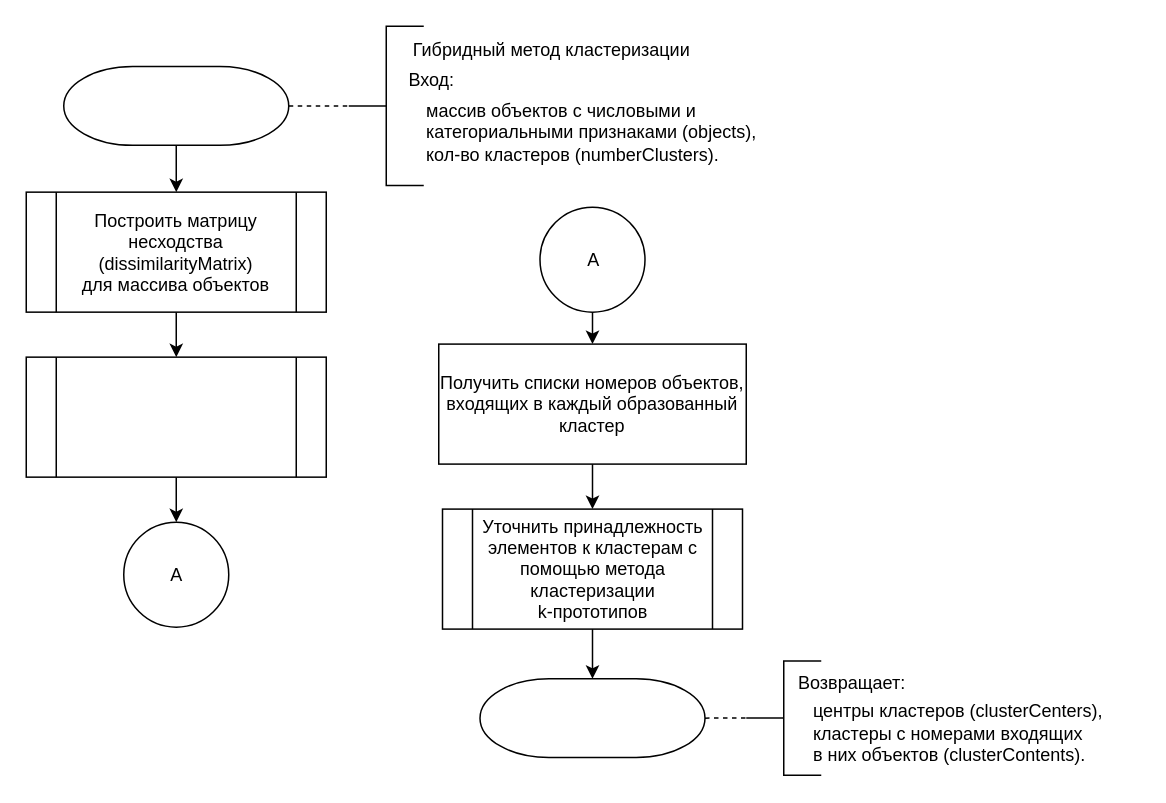
This 1166x803 diagram has some shape labels left out. The box of each missing label's shape, as (x1, y1, x2, y2) in pixels:
Конец: (478, 677, 705, 758)
Начало: (62, 65, 289, 145)
Применить агломеративный подход иерархической кластеризации к массиву объектов: (25, 356, 326, 477)
